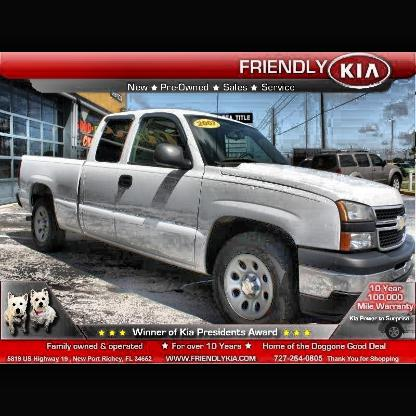Chevrolet Silverado 1500 Classic Extended Cab 2007: (16, 109, 416, 326)
